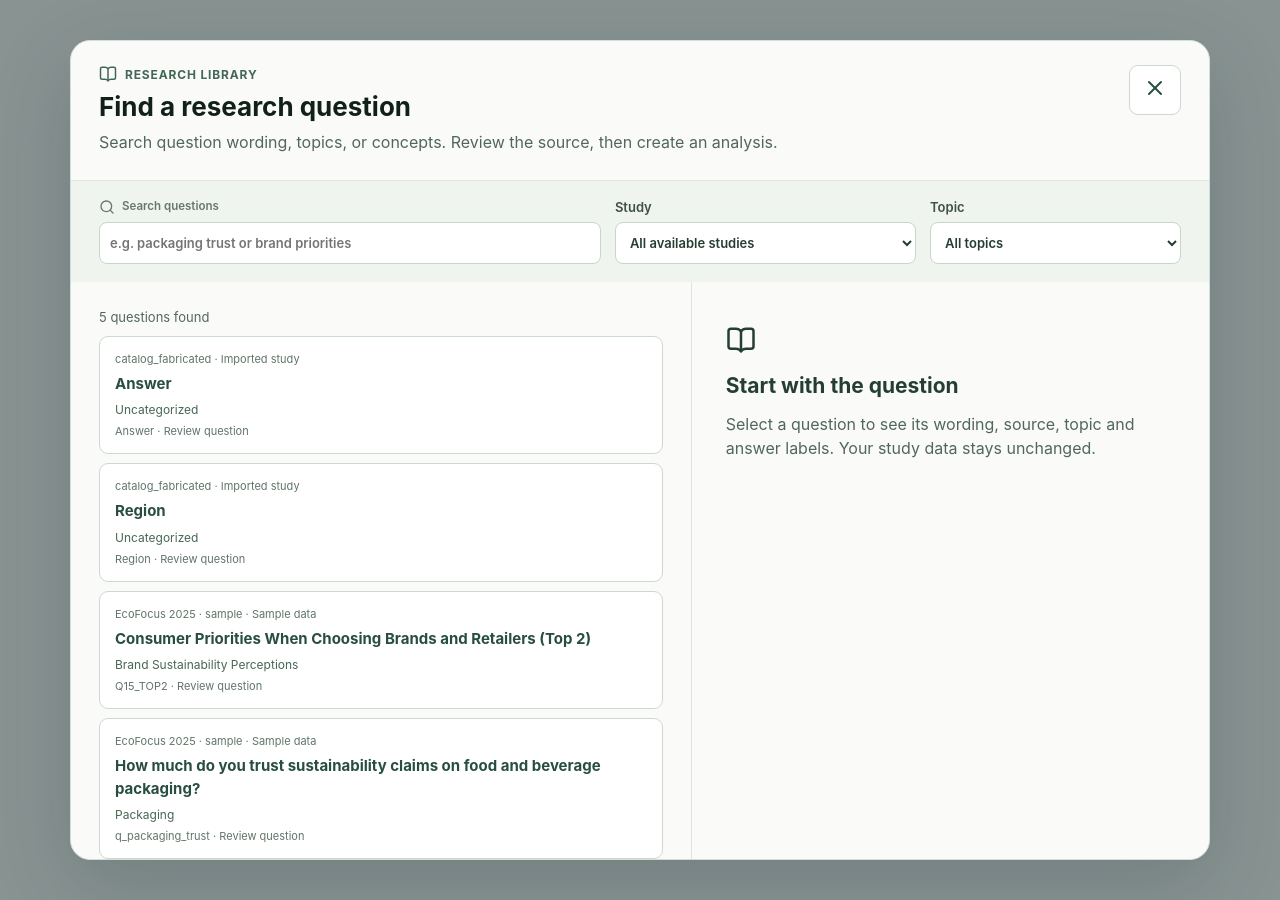
Test case: selects a sample explicitly even when imported studies are present
This screenshot has width=1280, height=900.
Later steps or results of the test are not shown.
Select "EcoFocus 2025 · sample" in the dropdown labelled "Study" at coordinates (766, 243), box [615,222,916,264]
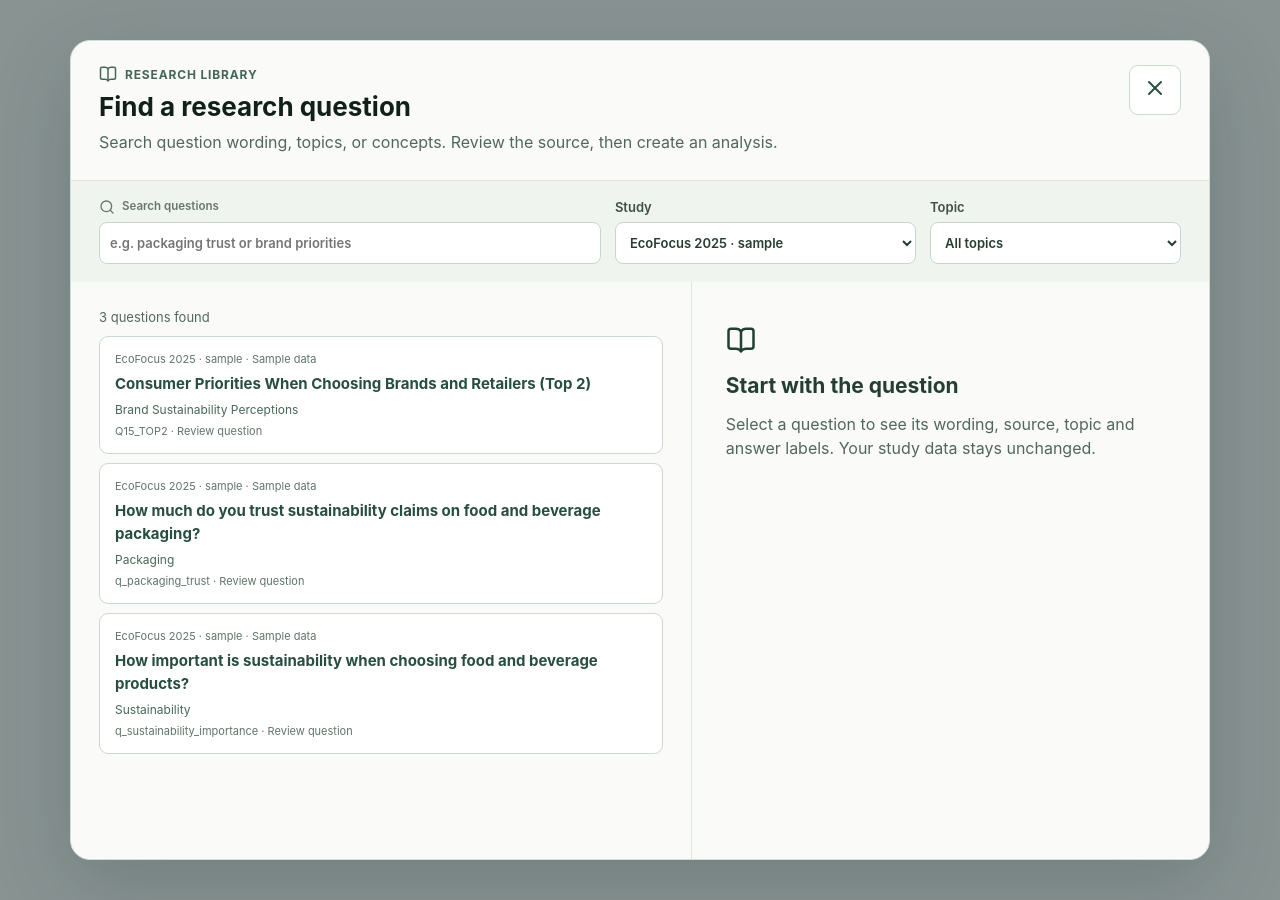
Click the 2nd button at coordinates (381, 395), box [99,336,663,454]
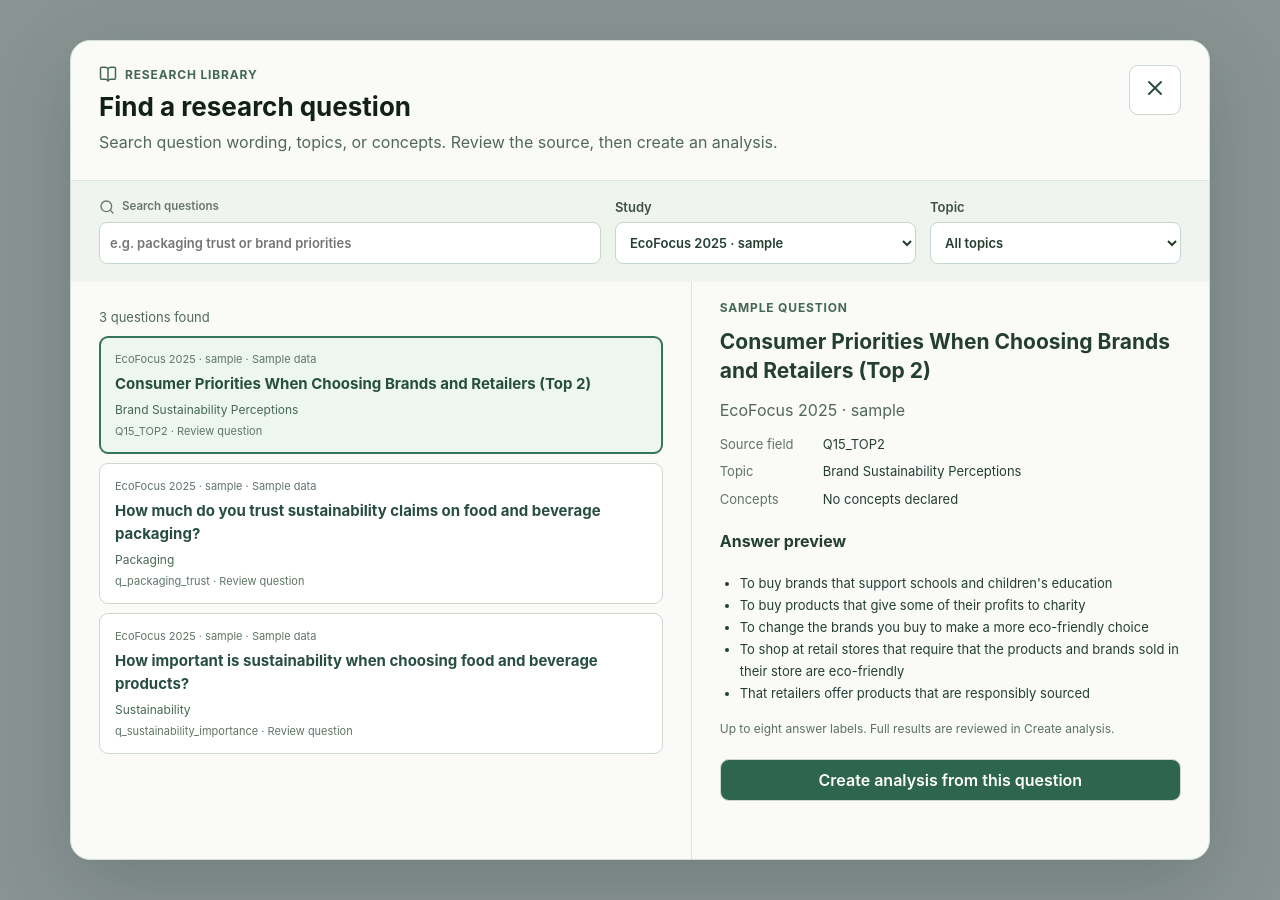
Check: the button "Create analysis from this question" is shown, box [720,759,1181,801]
